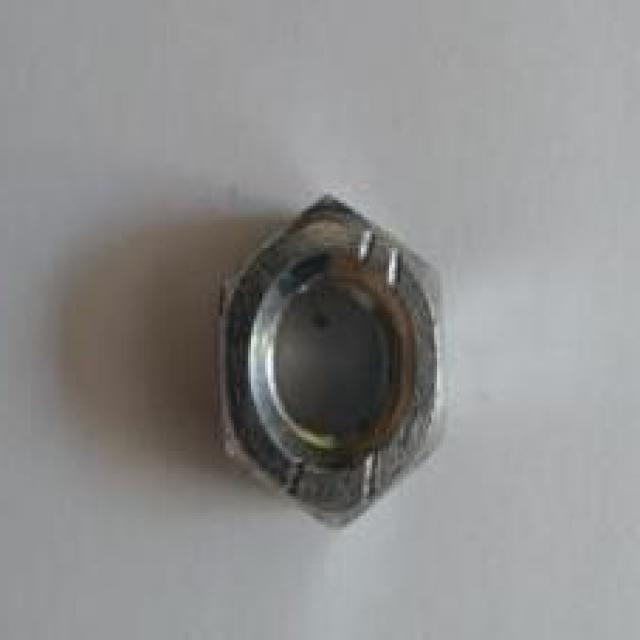ecrouOK: (216, 187, 448, 534)
